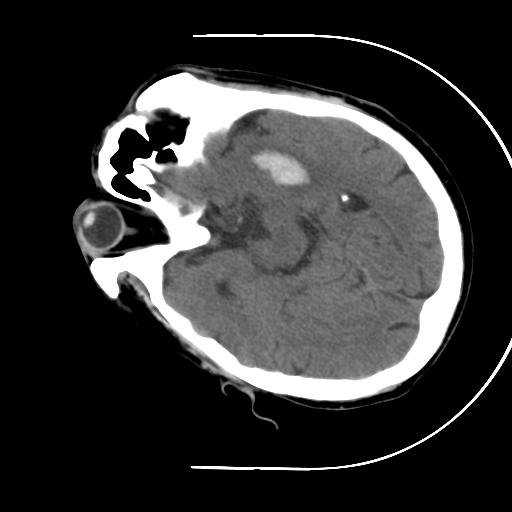a: (227, 130, 332, 209)
